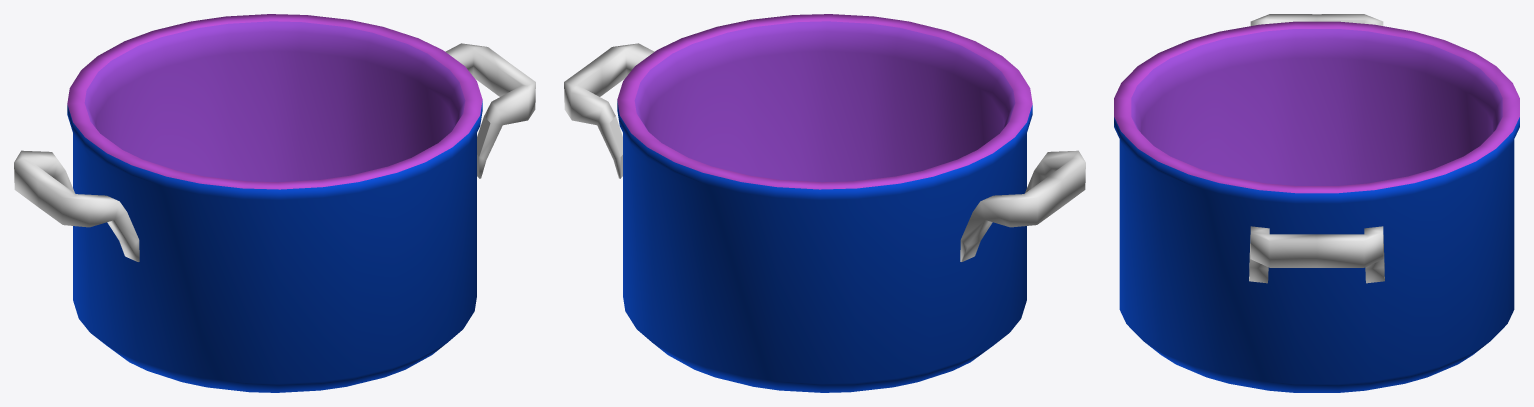
File: OatmealPotCooked.fbx
The picture shows the model from 3 angles, left to right: view 1: azimuth 30°, elevation 25°; view 2: azimuth 150°, elevation 25°; view 3: azimuth 270°, elevation 25°; orthographic projection.
Visible parts, largest first — view 1: Cylinder.001, Cylinder.004; view 2: Cylinder.001, Cylinder.004; view 3: Cylinder.001, Cylinder.004.
Boxes of the visible parts, x1,y1,x2,y2 form: Cylinder.001: (67,14,482,392); Cylinder.004: (14,43,535,261); Cylinder.001: (617,14,1032,392); Cylinder.004: (564,43,1085,261); Cylinder.001: (1114,21,1519,392); Cylinder.004: (1249,14,1384,283).
Bounding box in the file's own units: 83.38 × 35.99 × 62.94.
